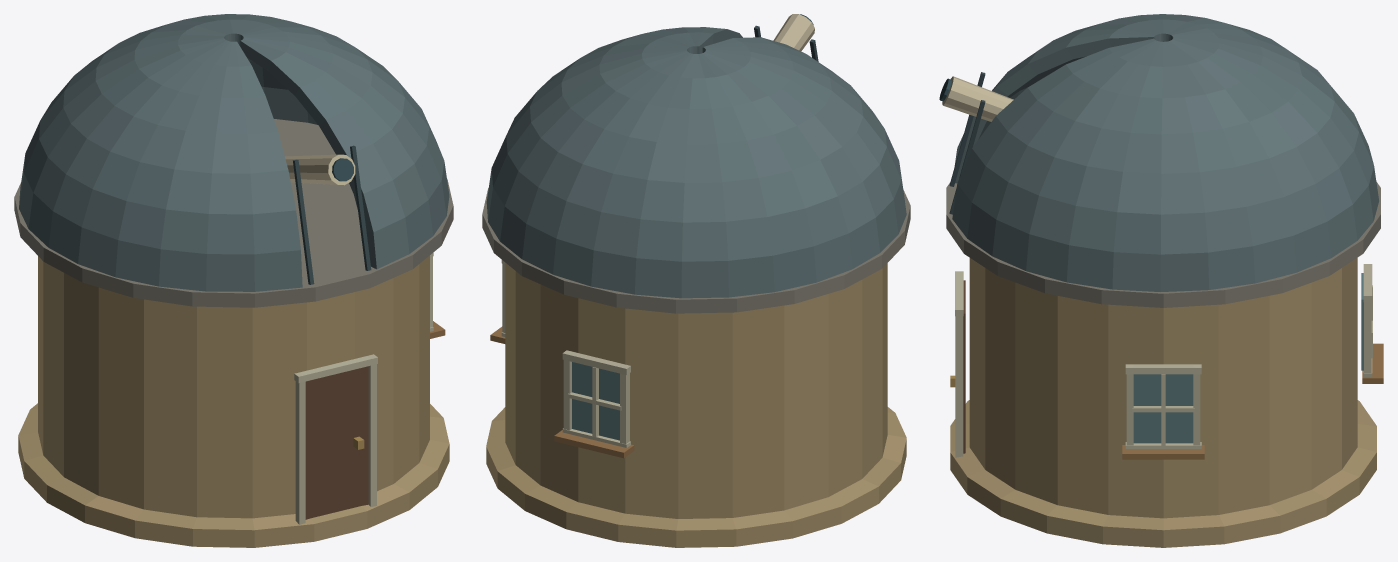
The model's file is Building_Landmark_Observatory_001.glb.
3 views of the same model, side by side, from view 1: azimuth 30°, elevation 25°; view 2: azimuth 150°, elevation 25°; view 3: azimuth 270°, elevation 25° (orthographic). The views are drawn at different scales.
Visible parts, largest first — view 1: Building_Landmark_Observatory_001; view 2: Building_Landmark_Observatory_001; view 3: Building_Landmark_Observatory_001.
Part boxes in pixels (x1,y1,x2,y2): Building_Landmark_Observatory_001: (14,14,453,547); Building_Landmark_Observatory_001: (482,14,910,547); Building_Landmark_Observatory_001: (939,14,1383,547).
Bounding box in the file's own units: 5.6 × 5.9 × 5.66.
